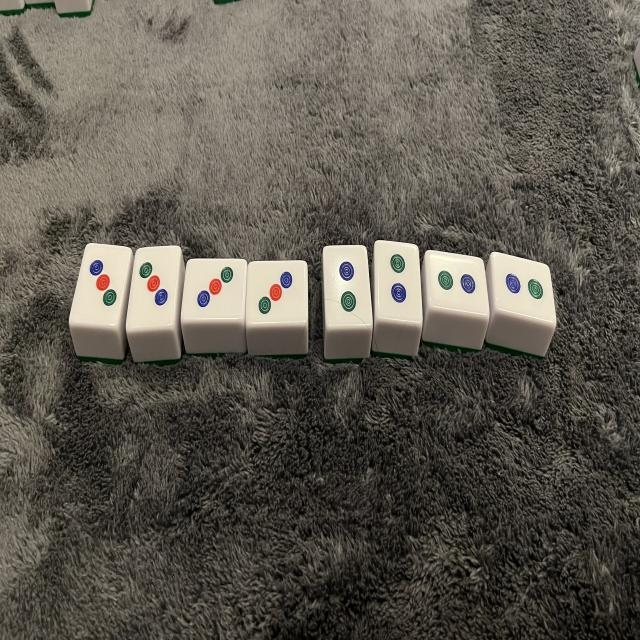t2: (491, 252, 556, 322), (324, 246, 372, 327), (376, 242, 423, 318), (427, 251, 484, 313)
t3: (71, 244, 133, 325), (126, 247, 180, 330), (182, 260, 245, 320), (249, 262, 308, 325)
